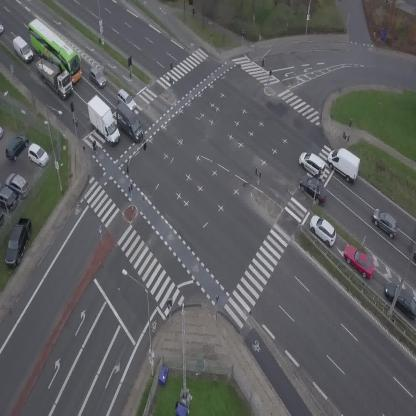bicycle: (188, 3, 197, 18), (90, 139, 99, 153)
bus: (19, 15, 91, 85)
car: (338, 239, 380, 283), (293, 169, 333, 207), (304, 211, 342, 248), (368, 206, 405, 241), (295, 148, 331, 180), (112, 88, 140, 114), (85, 65, 110, 90), (0, 23, 4, 34)
lorry: (25, 47, 80, 102), (79, 93, 130, 148), (107, 101, 151, 145), (322, 142, 367, 185), (8, 34, 37, 64), (413, 246, 416, 263)
